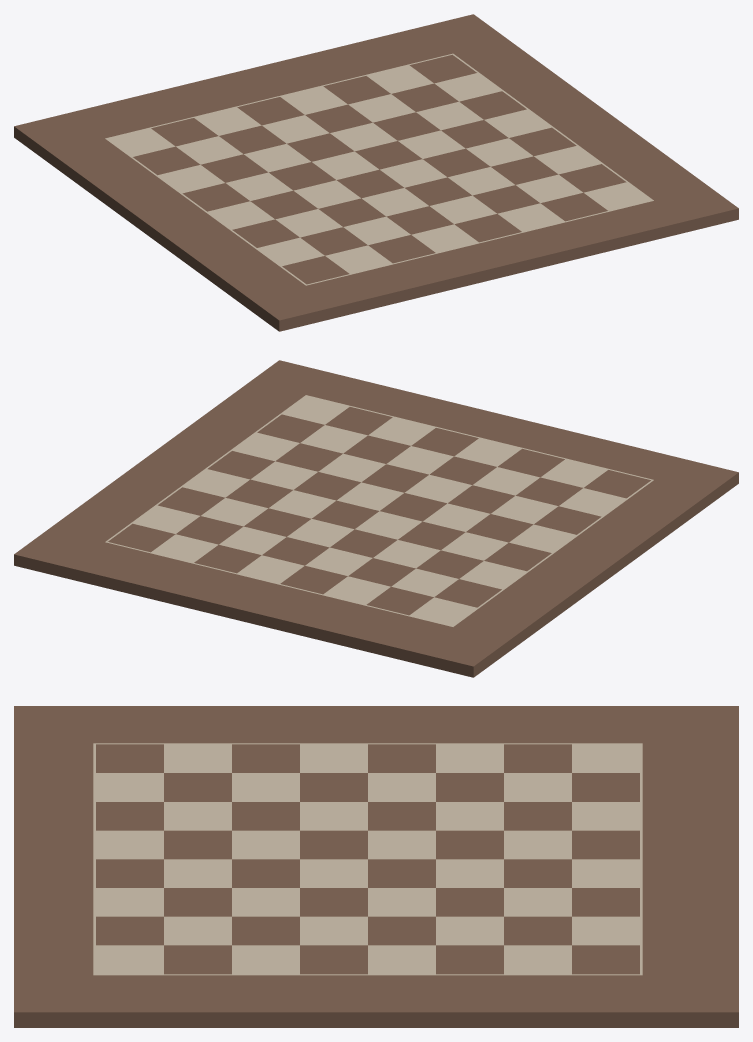
The model's file is voxel.glb.
3 views of the same model, one above another, from view 1: azimuth 30°, elevation 25°; view 2: azimuth 150°, elevation 25°; view 3: azimuth 270°, elevation 25° (orthographic). The views are drawn at different scales.
Visible parts, largest first — view 1: geometry_0; view 2: geometry_0; view 3: geometry_0.
Part boxes in pixels (x1,y1,x2,y2): geometry_0: (14,14,738,331); geometry_0: (14,360,738,677); geometry_0: (14,706,738,1027).
Size of the model in its own units: 9.92 by 0.2325 by 9.92.
